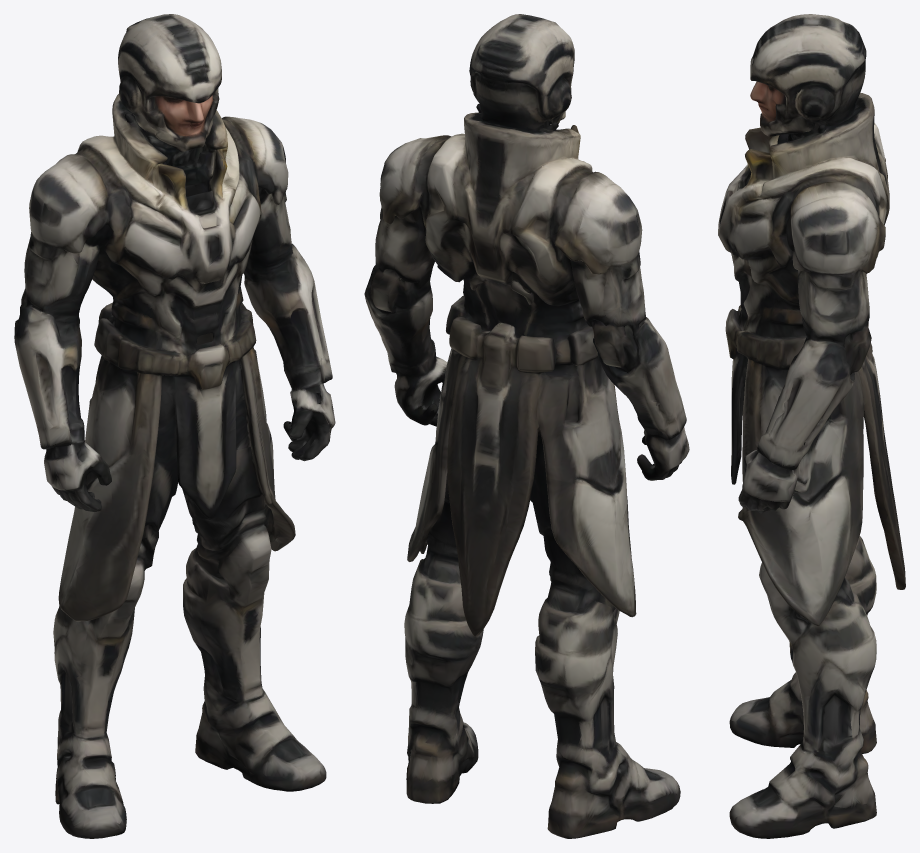
Rendered from figur.glb.
3 views of the same model, side by side, from view 1: azimuth 30°, elevation 25°; view 2: azimuth 150°, elevation 25°; view 3: azimuth 270°, elevation 25° (orthographic). The views are drawn at different scales.
Parts seen in each view (by area): view 1: figur; view 2: figur; view 3: figur.
Boxes of the visible parts, <box> form: figur: <box>14,14,335,838</box>; figur: <box>364,14,689,838</box>; figur: <box>718,14,905,838</box>.
Size of the model in its own units: 0.3976 by 1 by 0.225.
1 material, 1 textured.
